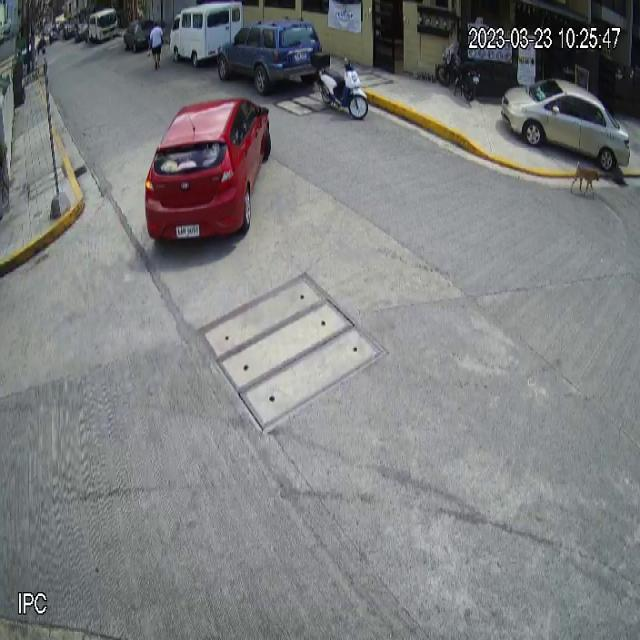Car: (143, 95, 274, 250), (501, 78, 630, 171), (216, 16, 323, 96)
Motorcycle: (309, 49, 369, 120)
Van: (169, 0, 242, 69)
